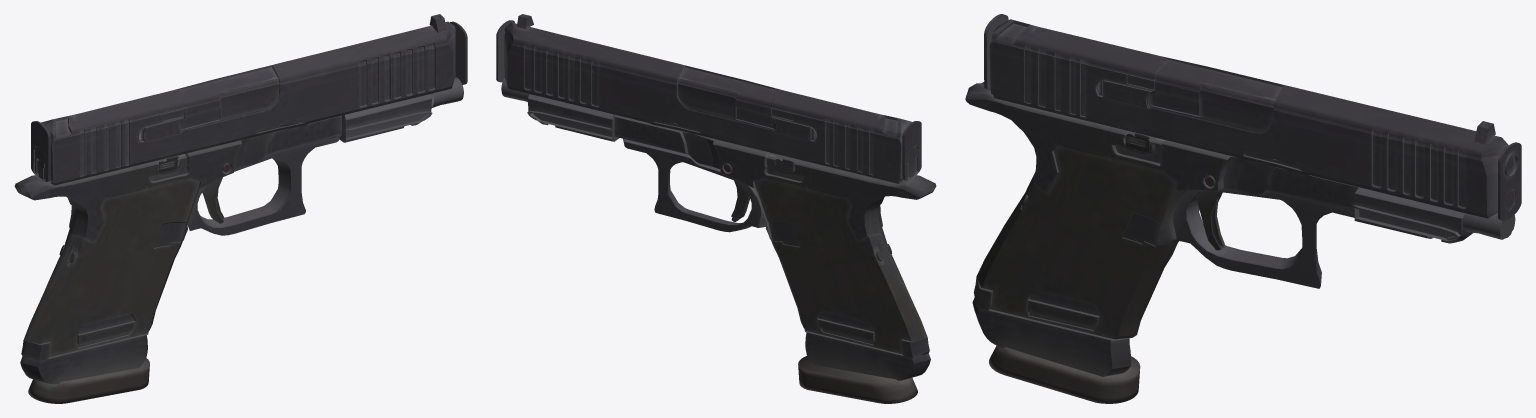
File: glock.glb
3 renders of one model, left to right at view 1: azimuth 30°, elevation 25°; view 2: azimuth 150°, elevation 25°; view 3: azimuth 330°, elevation 25°, orthographic. The views are drawn at different scales.
Visible parts, largest first — view 1: Circle; view 2: Circle; view 3: Circle.
Part boxes in pixels (<box>): Circle: <box>14,14,467,403</box>; Circle: <box>496,14,936,403</box>; Circle: <box>965,14,1521,403</box>.
Size of the model in its own units: 0.19 by 0.1212 by 0.0205.
Materials: 1 (1 with a texture image).
